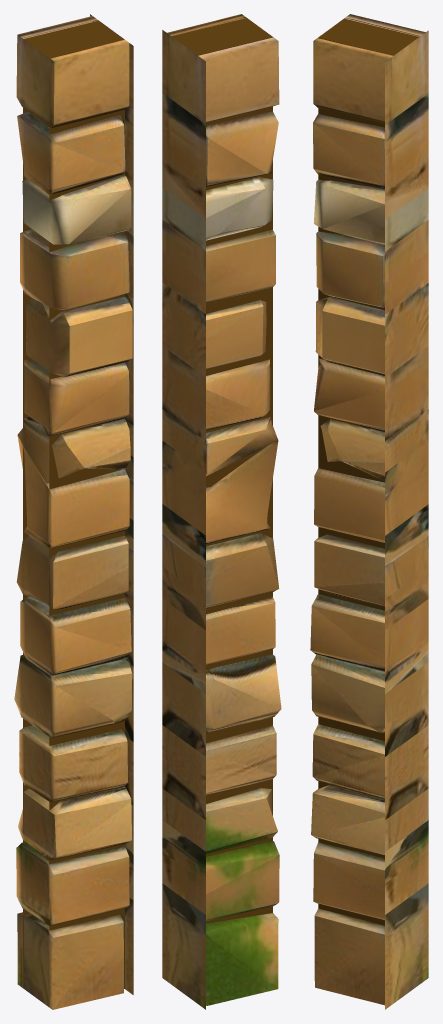
Rendered from corner-post-stone.glb.
3 views of the same model, side by side, from view 1: azimuth 30°, elevation 25°; view 2: azimuth 210°, elevation 25°; view 3: azimuth 330°, elevation 25° (orthographic).
Size of the model in its own units: 0.25 by 3 by 0.25.
1 material, 1 textured.
